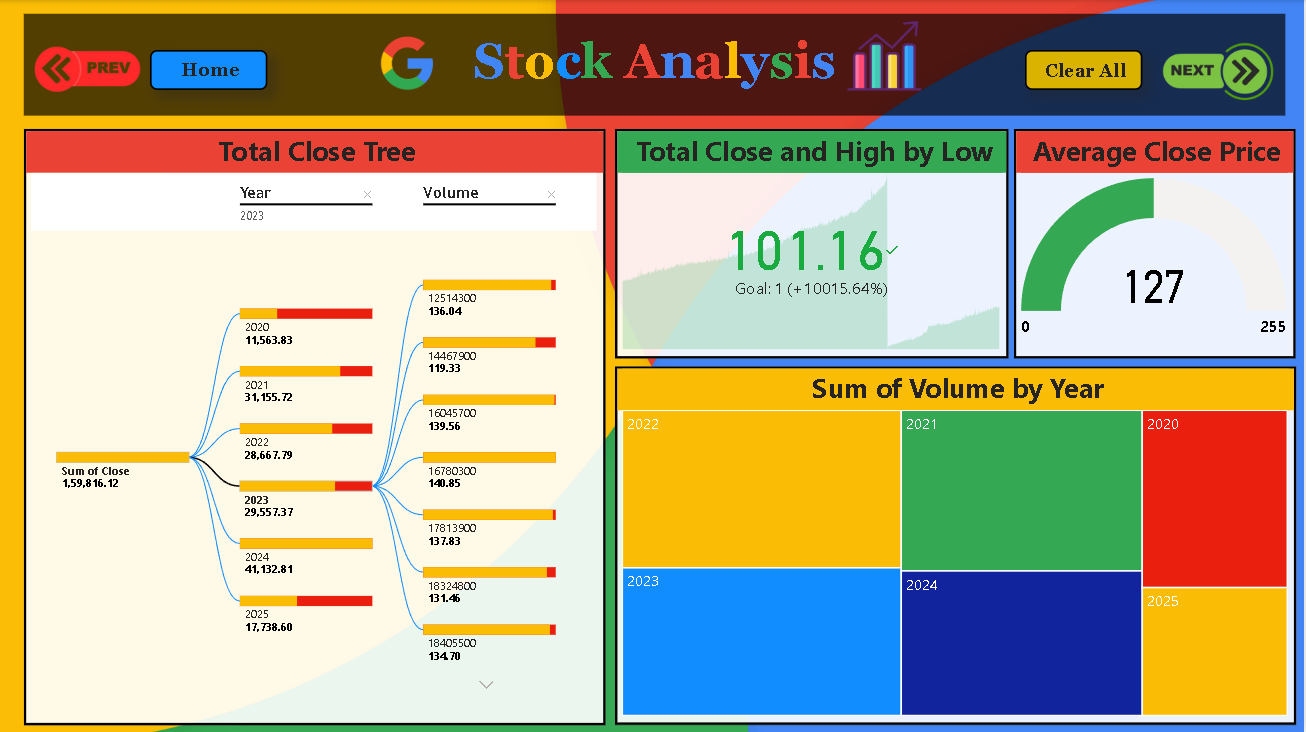

The page's visual inventory and layout, read from the dashboard file:
{"tool":"powerbi","page":{"name":" Stock Insights","canvas":[1280,720],"ordinal":4},"visuals":[{"type":"decompositionTreeVisual","title":"Total Close Tree","fields":{"Analyze":["Sum(Google Stock.Close)"],"ExplainBy":["Google Stock.Date.Variation.Date Hierarchy.Year","Google Stock.Volume"]},"box":[23.8,126.4,571,585.3],"z":0},{"type":"treemap","fields":{"Group":["Google Stock.Year"],"Values":["Sum(Google Stock.Volume)"]},"box":[603.2,360,668.7,351.6],"z":1000},{"type":"textbox","box":[23,13.5,1238.4,100],"z":2000},{"type":"image","box":[367.1,17.9,66.8,87],"z":3000},{"type":"image","box":[824.7,13.5,87.9,82.5],"z":4000},{"type":"image","box":[0,25.8,170.6,76.1],"z":5000},{"type":"kpi","title":"Total Close and High by Low","fields":{"TrendLine":["Google Stock.Low"],"Goal":["Count(Google Stock.High)"],"Indicator":["Sum(Google Stock.Close)"]},"box":[603.2,126.4,386.2,225.3],"z":6000},{"type":"gauge","title":"Average Close Price","fields":{"Y":["Google Stock.Avg Close Price"]},"box":[995.3,126.4,276.6,225.3],"z":7000},{"type":"image","box":[1109.2,35.6,170.6,77.3],"z":8000},{"type":"actionButton","title":"Home","box":[147.2,49.1,115.3,39.3],"z":9000},{"type":"actionButton","title":"Clear All","box":[1006.1,49.1,115.3,39.3],"z":10000}]}

Visuals, with their boxes in screenshot pixels (x1, y1, x2, y2), scaled from the page's 1280x720 canvas onto the 1306x732 screenshot:
"Total Close Tree" decompositionTreeVisual: box(24, 129, 607, 724)
treemap - Google Stock.Year x Sum(Google Stock.Volume): box(615, 366, 1298, 723)
textbox: box(23, 14, 1287, 115)
image: box(375, 18, 443, 107)
image: box(841, 14, 931, 98)
image: box(0, 26, 174, 104)
"Total Close and High by Low" kpi: box(615, 129, 1009, 358)
"Average Close Price" gauge: box(1016, 129, 1298, 358)
image: box(1132, 36, 1305, 115)
"Home" actionButton: box(150, 50, 268, 90)
"Clear All" actionButton: box(1027, 50, 1144, 90)
